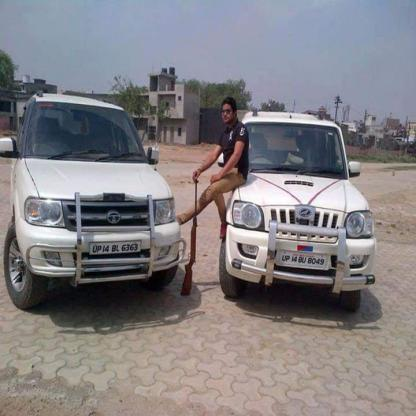rifle: (180, 172, 199, 298)
